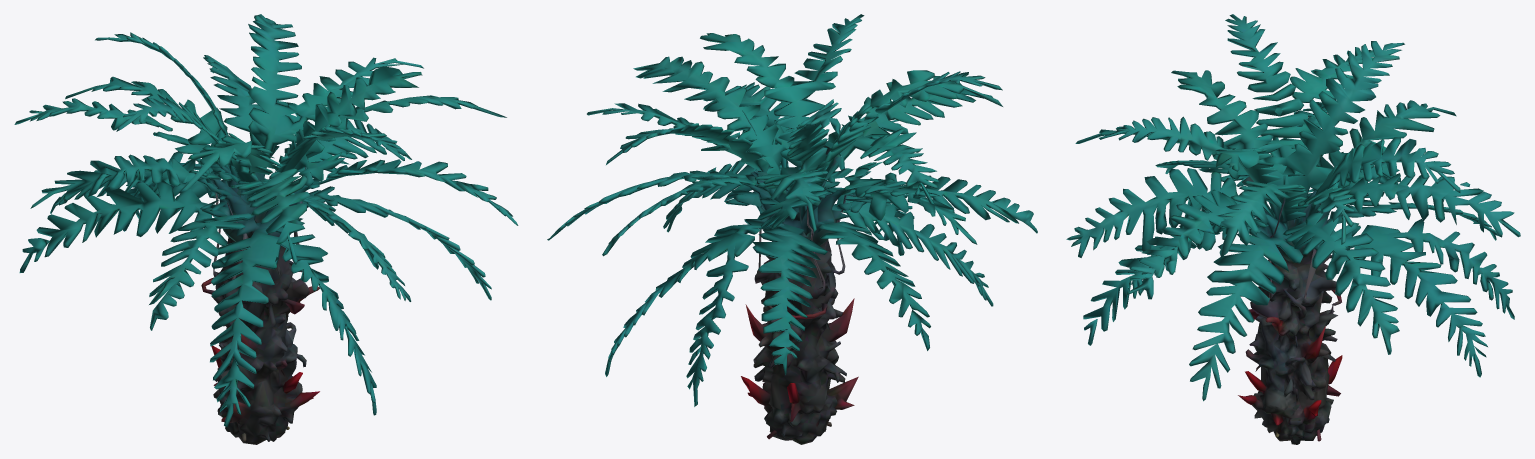
File: frondtree.glb
3 views of the same model, side by side, from view 1: azimuth 30°, elevation 25°; view 2: azimuth 150°, elevation 25°; view 3: azimuth 270°, elevation 25° (orthographic). The views are drawn at different scales.
Parts seen in each view (by area): view 1: tripo_node_b993dfbf-412b-45af-8eb9-38883e1d19a5; view 2: tripo_node_b993dfbf-412b-45af-8eb9-38883e1d19a5; view 3: tripo_node_b993dfbf-412b-45af-8eb9-38883e1d19a5.
Boxes of the visible parts, box(x1,y1,x2,y2) form: tripo_node_b993dfbf-412b-45af-8eb9-38883e1d19a5: box(14, 14, 518, 444); tripo_node_b993dfbf-412b-45af-8eb9-38883e1d19a5: box(547, 14, 1037, 444); tripo_node_b993dfbf-412b-45af-8eb9-38883e1d19a5: box(1066, 14, 1520, 444).
Bounding box in the file's own units: 0.955 × 0.8611 × 0.9863.
1 material, 1 textured.
